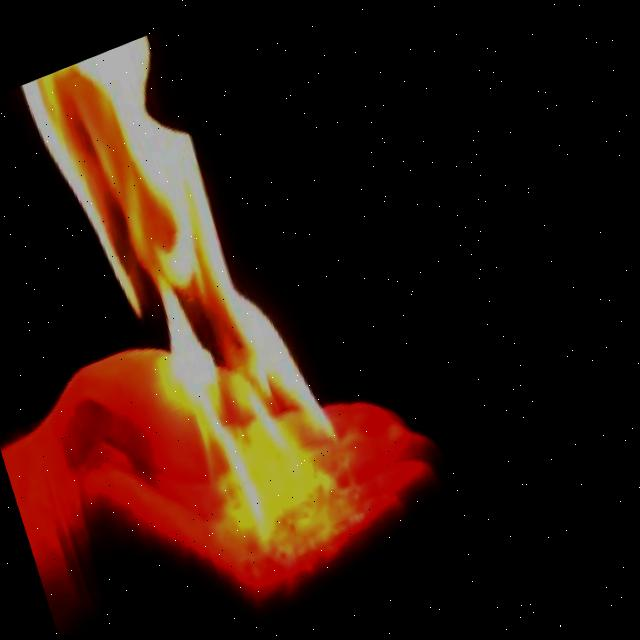Fire: (0, 4, 398, 594)
